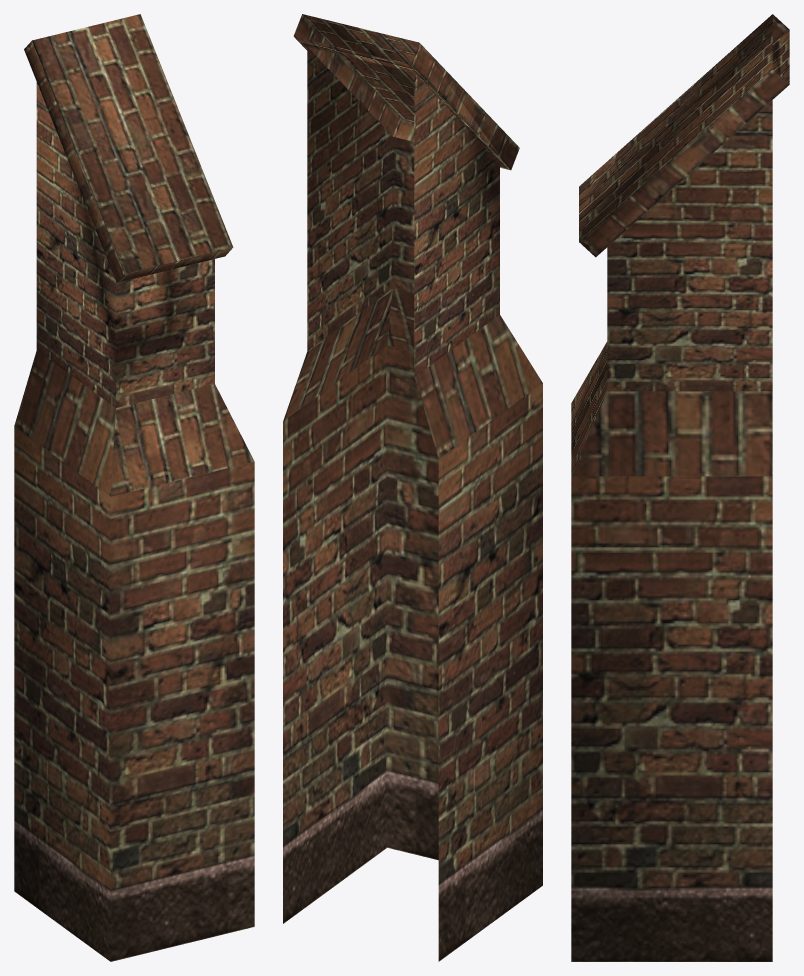
File: chapel_buttress.obj
The picture shows the model from 3 angles, left to right: view 1: azimuth 30°, elevation 25°; view 2: azimuth 150°, elevation 25°; view 3: azimuth 270°, elevation 25°; orthographic projection. The views are drawn at different scales.
Parts seen in each view (by area): view 1: Object001; view 2: Object001; view 3: Object001.
Boxes of the visible parts, x1=… form: Object001: x1=14, y1=14, x2=254, y2=961; Object001: x1=283, y1=14, x2=542, y2=961; Object001: x1=571, y1=14, x2=789, y2=961.
Size of the model in its own units: 547 by 3072 by 687.
Materials: 1 (1 with a texture image).
